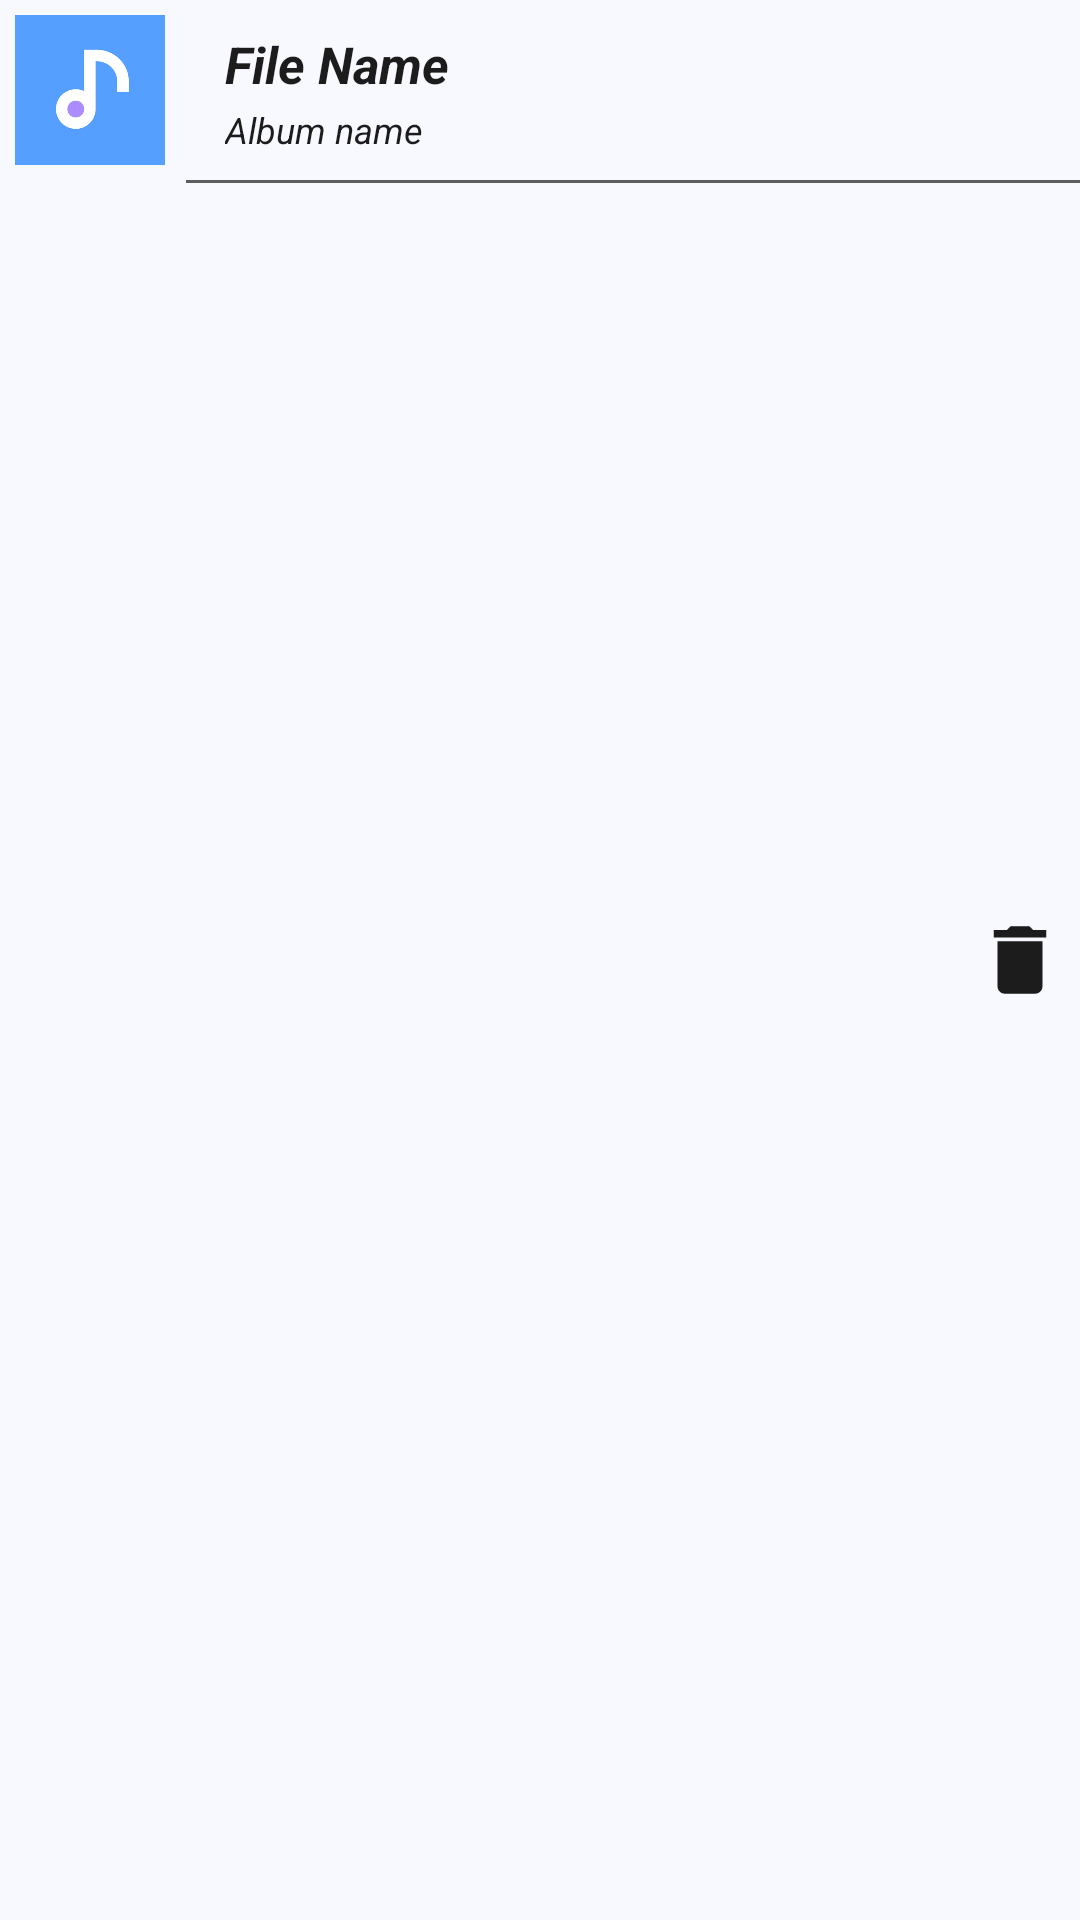

Point at icon controls on the screen. Image size 1080 × 1920, points as (x=x, y=y).
delete: (x=1020, y=960)
musicimage: (x=90, y=90)
